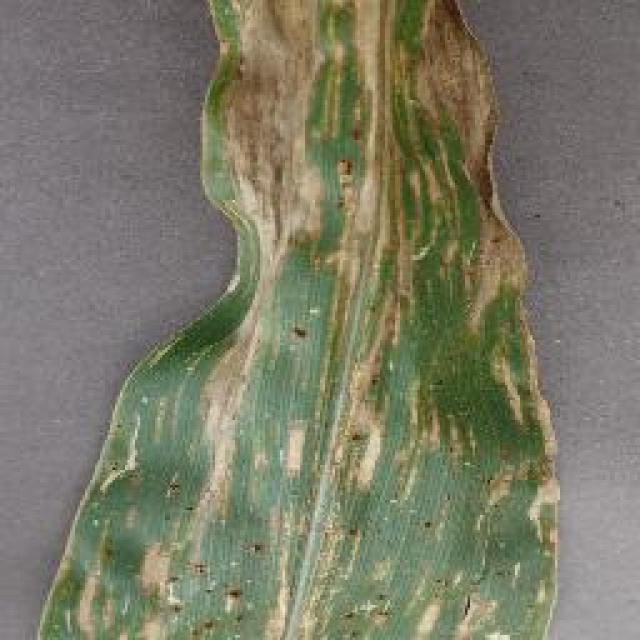Corn___Cercospora_leaf_spot Gray_leaf_spot: (106, 0, 587, 622)
